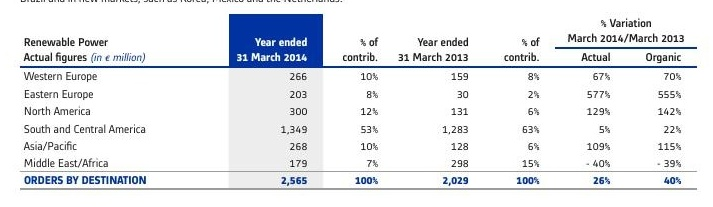table: (0, 0, 713, 207)
